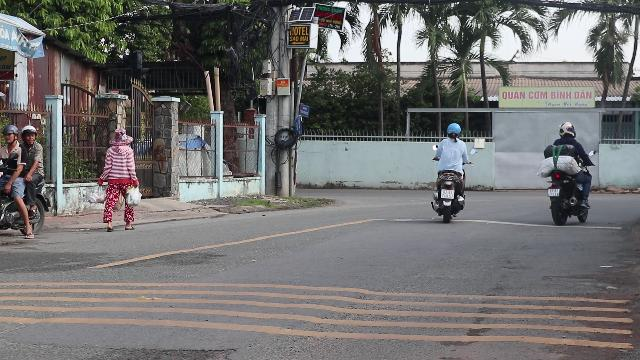helmet: (19, 124, 36, 144), (2, 124, 18, 144), (446, 122, 460, 138)
licenseplate: (440, 190, 454, 198)
motorcyclist: (0, 122, 48, 243), (429, 121, 469, 221)
